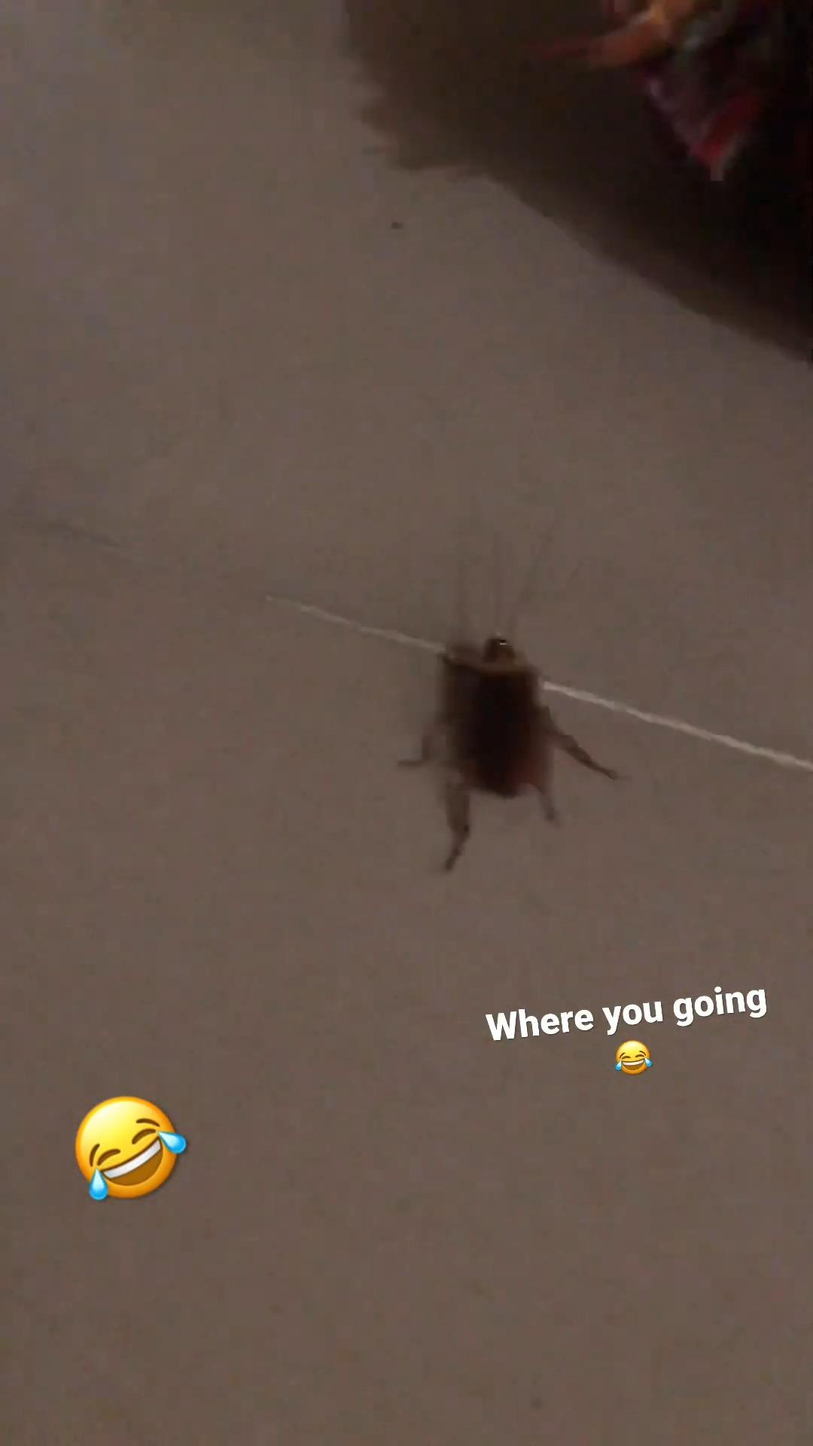cockroach: (413, 605, 598, 880)
